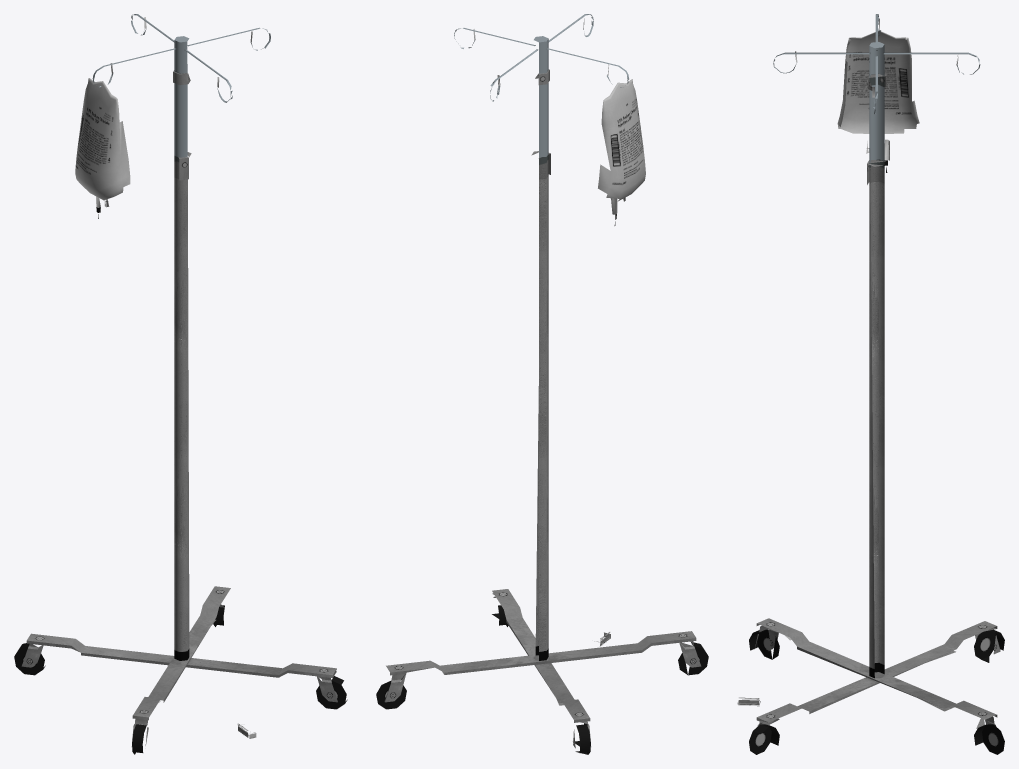
The model's file is drip stand.fbx.
3 views of the same model, side by side, from view 1: azimuth 30°, elevation 25°; view 2: azimuth 150°, elevation 25°; view 3: azimuth 270°, elevation 25° (orthographic).
Visible parts, largest first — view 1: Object_2.001; view 2: Object_2.001; view 3: Object_2.001.
Boxes of the visible parts, left/top/right/bottom form: Object_2.001: left=14, top=14, right=347, bottom=754; Object_2.001: left=376, top=14, right=708, bottom=754; Object_2.001: left=749, top=14, right=1004, bottom=754.
Bounding box in the file's own units: 415 × 1192 × 437.
Materials: 2 (2 with a texture image).
